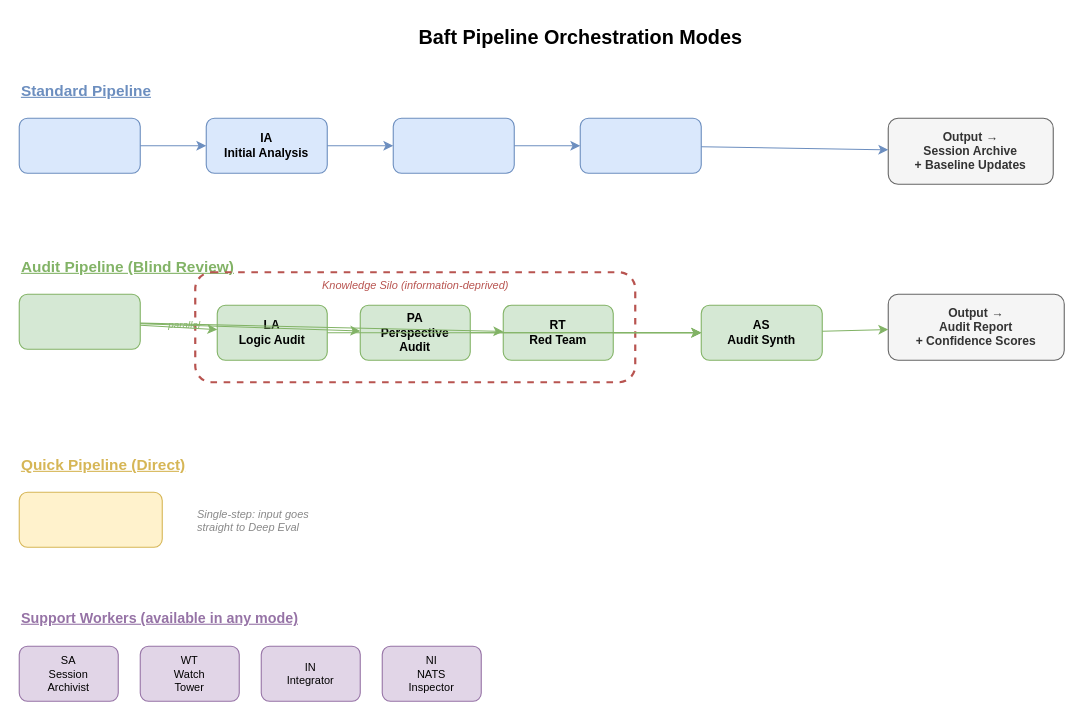
The diagram is 1084 pixels wide and 721 high, and some of its shapes have lost their labels. The shapes that lost their labels are listed below. From the top down, each one's centre as x and y in pixels, then its label:
[79,145]: SP Source Prep
[453,145]: XV Cross-Validate
[640,145]: DE Deep Eval
[79,321]: TN Triage
[90,519]: DE Deep Eval (direct)
